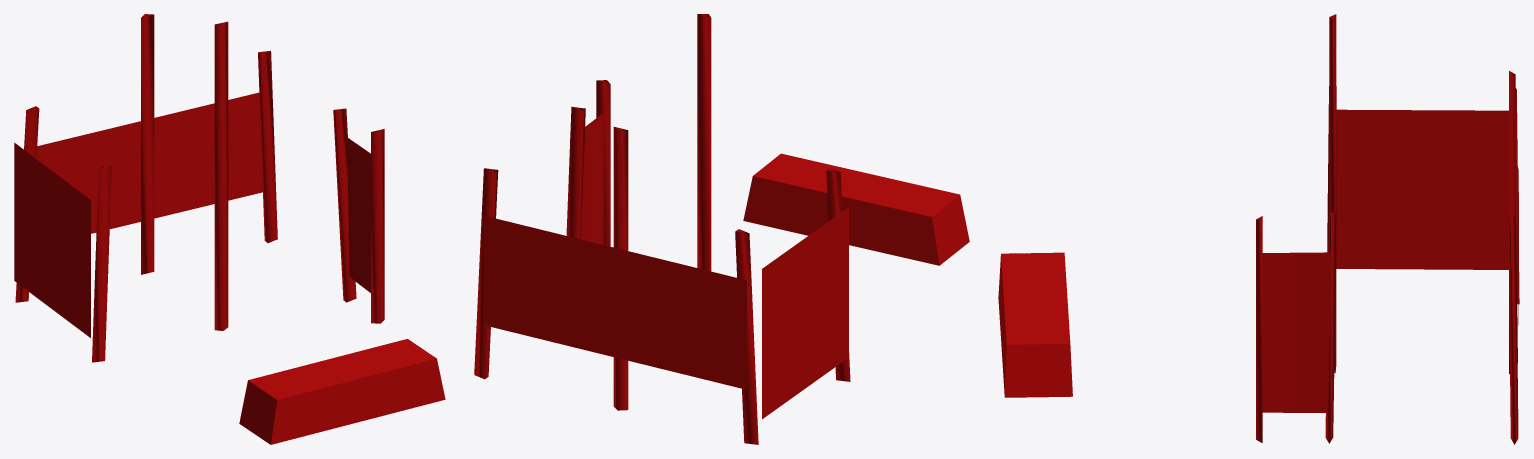
File: n_marketstand01_lod0.glb
3 renders of one model, left to right at view 1: azimuth 30°, elevation 25°; view 2: azimuth 150°, elevation 25°; view 3: azimuth 270°, elevation 25°, orthographic. The views are drawn at different scales.
Parts seen in each view (by area): view 1: MODEL_n_marketstand01_lod0; view 2: MODEL_n_marketstand01_lod0; view 3: MODEL_n_marketstand01_lod0.
Part boxes in pixels (left/top/right/bottom): MODEL_n_marketstand01_lod0: left=14, top=14, right=445, bottom=444; MODEL_n_marketstand01_lod0: left=474, top=14, right=969, bottom=444; MODEL_n_marketstand01_lod0: left=998, top=14, right=1519, bottom=444.
Size of the model in its own units: 0.881 by 0.9681 by 1.3.
